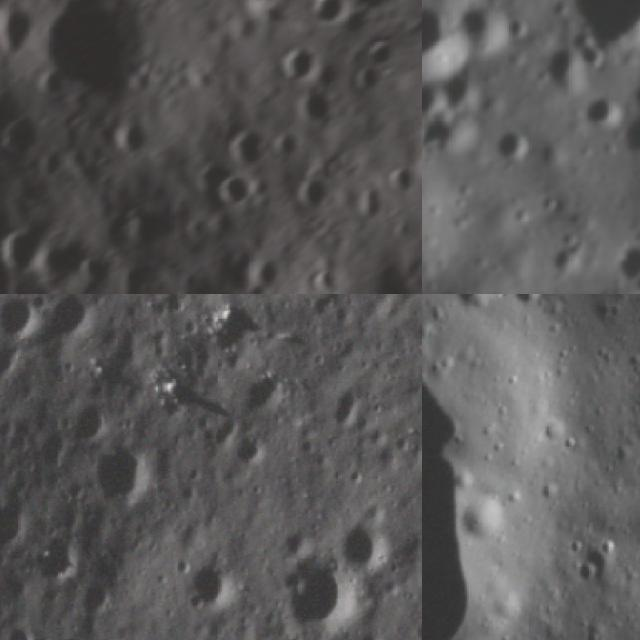crater: (422, 350, 514, 640), (9, 0, 178, 130), (269, 550, 354, 640), (542, 0, 640, 72), (422, 0, 482, 100), (529, 32, 605, 108), (478, 113, 550, 185), (562, 75, 632, 146), (0, 97, 59, 177), (0, 208, 55, 289), (212, 111, 278, 178), (282, 162, 348, 228), (422, 107, 478, 181), (90, 436, 154, 499), (0, 0, 54, 70), (284, 82, 347, 142), (267, 33, 327, 95), (177, 555, 239, 614), (208, 164, 268, 224), (28, 527, 90, 584), (336, 509, 390, 571), (234, 240, 292, 294), (237, 368, 295, 420), (338, 58, 393, 110), (35, 294, 94, 340), (605, 103, 640, 180), (68, 393, 114, 449), (70, 245, 122, 294), (599, 230, 640, 290), (264, 126, 312, 175), (373, 153, 422, 201), (0, 294, 46, 339), (0, 496, 35, 554), (422, 58, 449, 132), (328, 379, 364, 433), (301, 258, 349, 294), (74, 578, 114, 620), (234, 431, 273, 472), (453, 294, 500, 323), (0, 337, 22, 379), (508, 294, 543, 315), (2, 619, 33, 640), (412, 300, 422, 351)
